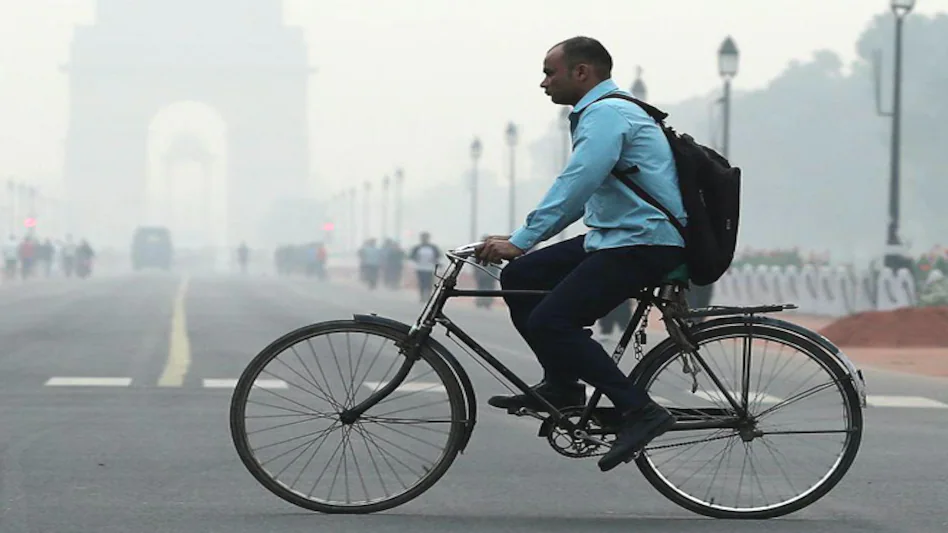cycle: (228, 238, 885, 521)
rider: (471, 30, 750, 484)
